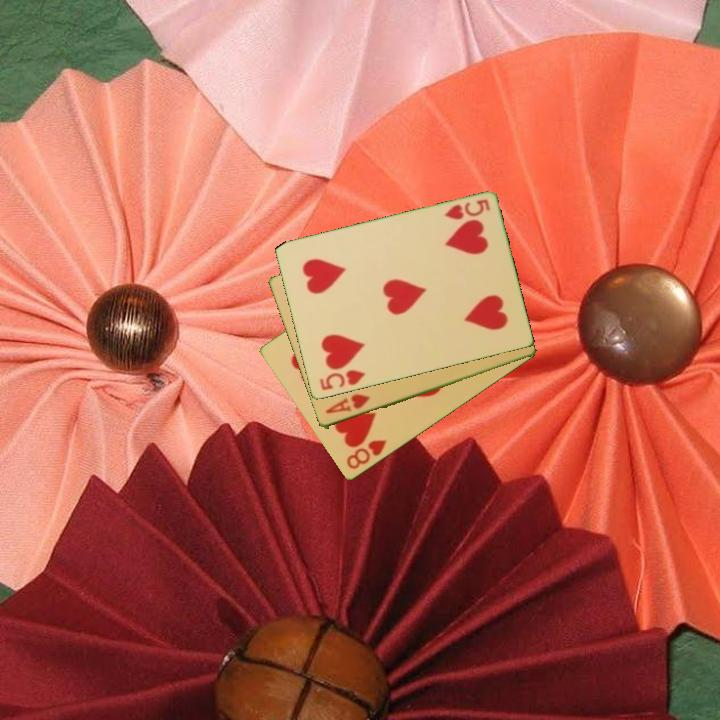5h: (316, 366, 368, 394), (441, 196, 493, 223)
8h: (343, 436, 390, 473)
Ah: (322, 390, 373, 417)
